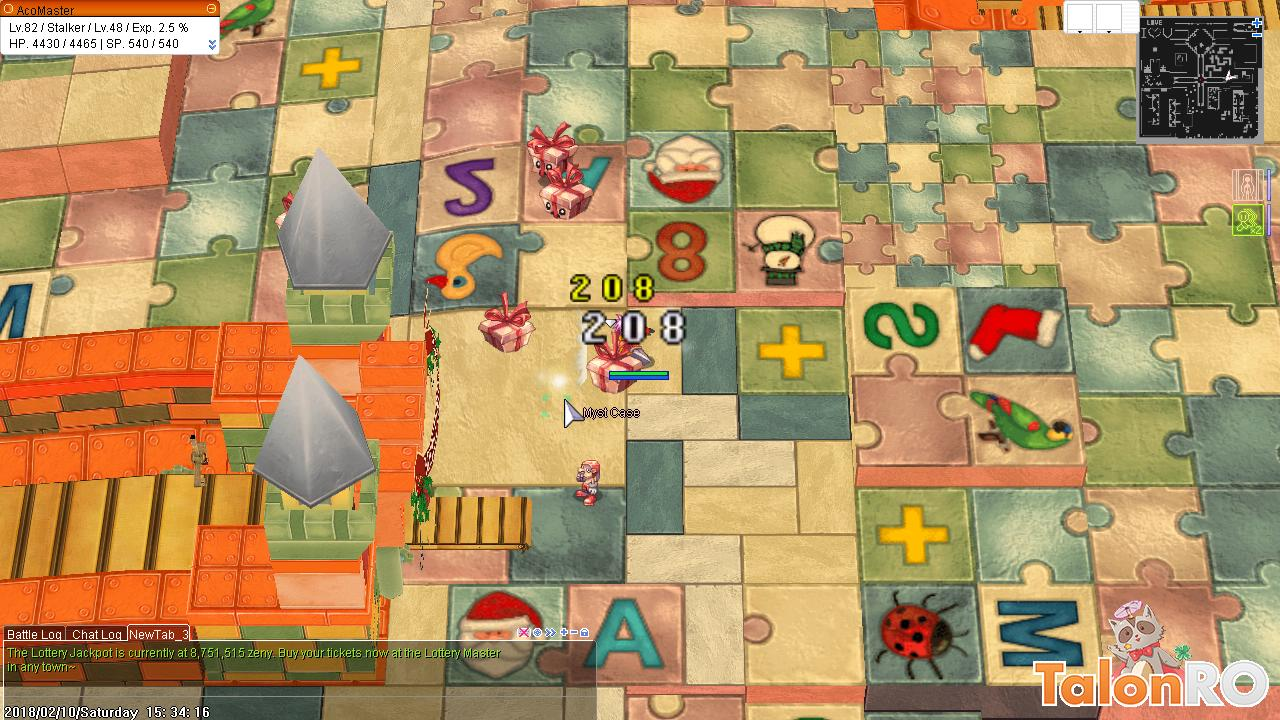myst_case: (579, 335, 646, 396), (478, 289, 538, 357), (523, 119, 579, 183), (540, 164, 596, 223)
